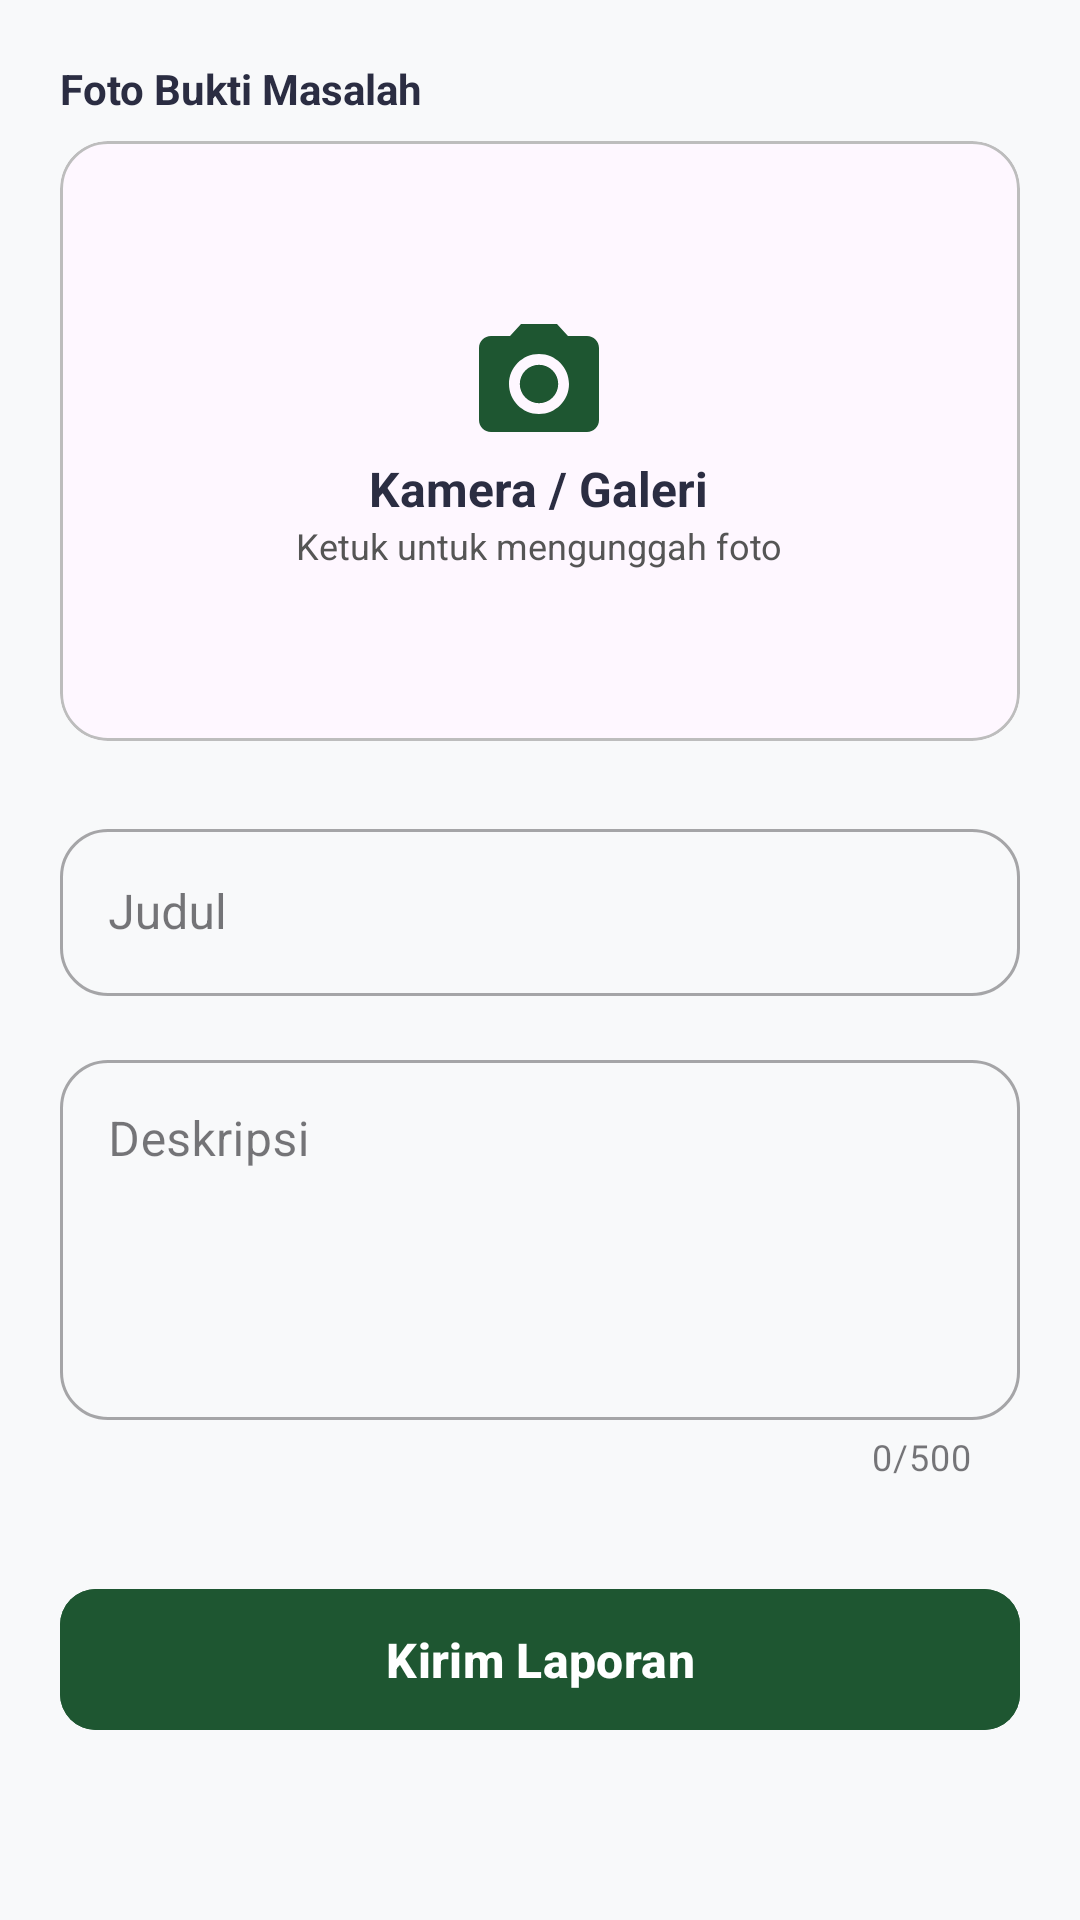

Screen size 1080px×1920px. Icon name, then its box in pixels as [x1,y1,x2,y2]:
camera: [479,324,599,432]
